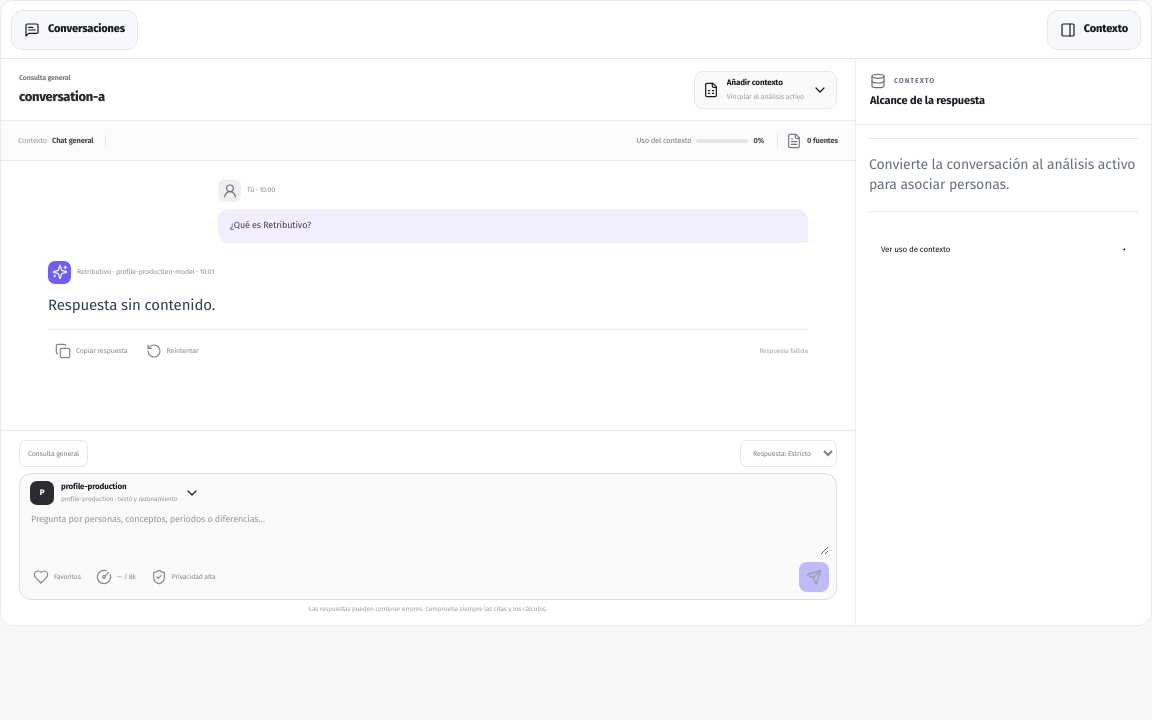
Test: Phase 5 third-review regressions › retries an empty failed production response from plan without an empty continuation
What coordinates should you click on to do the following:
click the button with aria-label "Reintentar respuesta"
I would click on:
 (172, 351)
Its box is [138,337,206,365].
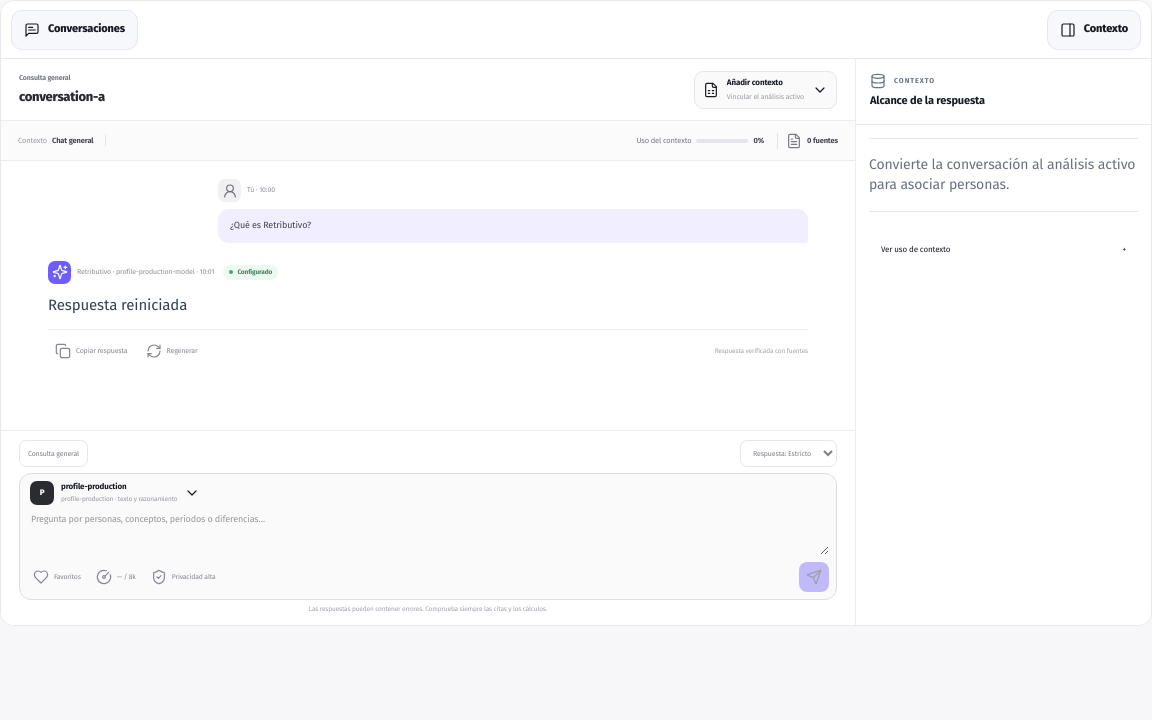
Expected: the text "Respuesta reiniciada" is shown, [48,296,187,314]
